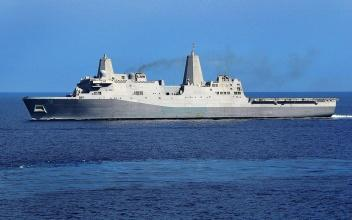warship: (18, 38, 338, 125)
